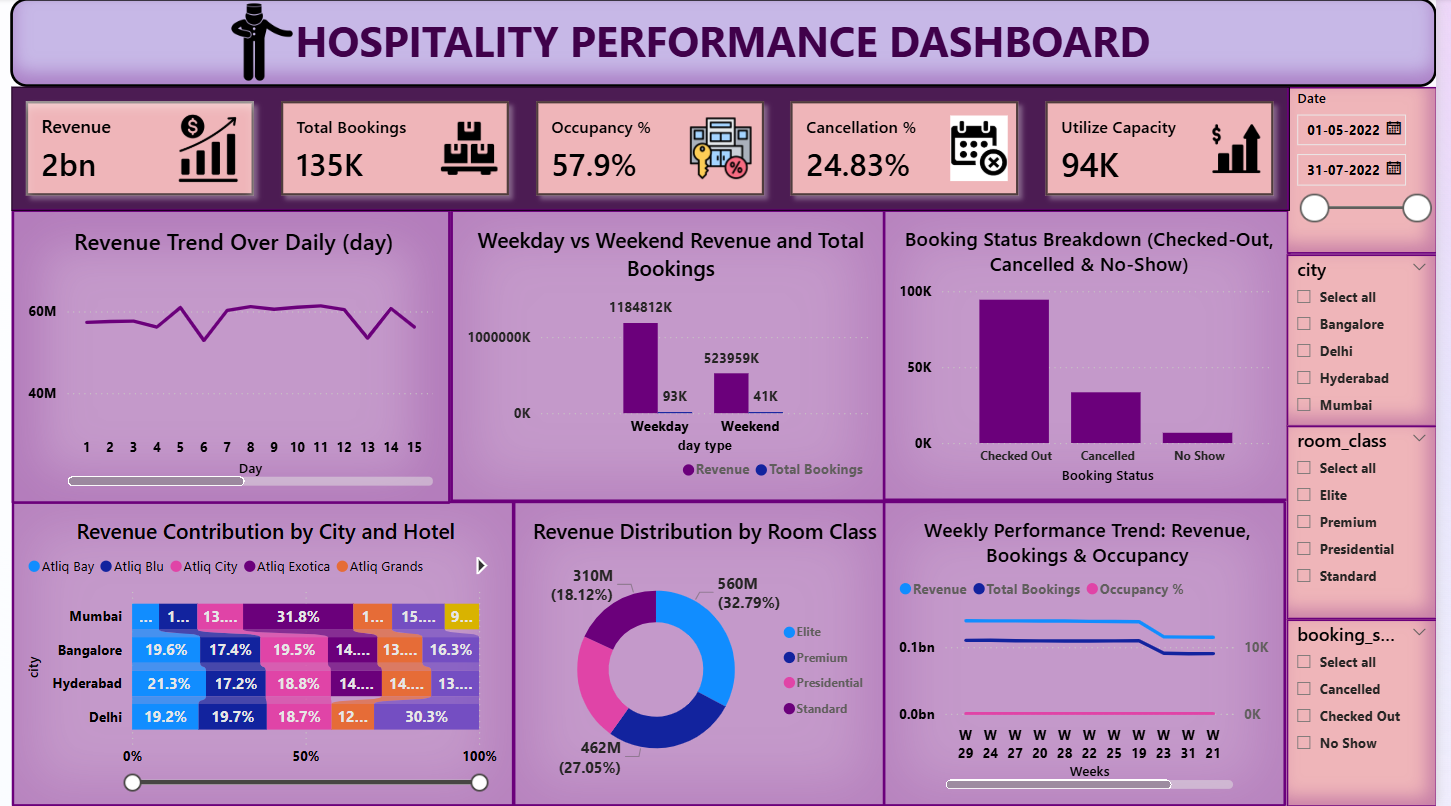

The page's visual inventory and layout, read from the dashboard file:
{"tool":"powerbi","page":{"name":"Page 8","canvas":[1280,720],"ordinal":7},"visuals":[{"type":"textbox","box":[10.1,0,1270.3,78.9],"z":0},{"type":"clusteredColumnChart","title":"Weekday vs Weekend Revenue and Total Bookings","fields":{"Category":["dim_date.day type"],"Y":["fact_bookings.Revenue","fact_bookings.Total Bookings"]},"box":[401.9,188.1,388,261],"z":6000},{"type":"hundredPercentStackedBarChart","title":"Revenue Contribution by City and Hotel","fields":{"Y":["fact_bookings.Revenue"],"Category":["dim_hotels.city"],"Series":["dim_hotels.property_name"]},"box":[11.1,447.5,448,272.7],"z":7000},{"type":"donutChart","title":"Revenue Distribution by Room Class","fields":{"Category":["dim_rooms.room_class"],"Y":["fact_bookings.Revenue"]},"box":[457.5,447.5,337.3,272.7],"z":8000},{"type":"lineChart","title":"Revenue Trend Over Daily (day)","fields":{"Category":["dim_date.date.Variation.Date Hierarchy.Day"],"Y":["fact_bookings.Revenue"]},"box":[11.3,188.2,391.1,262],"z":9000},{"type":"clusteredColumnChart","title":"Booking Status Breakdown (Checked-Out, Cancelled & No-Show)","fields":{"Category":["fact_bookings.booking_status"],"Y":["fact_bookings.Total Bookings"]},"box":[787,188.1,363,260],"z":10000},{"type":"lineChart","title":"Weekly Performance Trend: Revenue, Bookings & Occupancy","fields":{"Category":["dim_date.week no"],"Y":["fact_bookings.Revenue"],"Y2":["fact_bookings.Total Bookings","fact_aggregated_bookings.Occupancy %"]},"box":[787,447.5,359.6,272.7],"z":11000},{"type":"slicer","fields":{"Values":["dim_date.date"]},"box":[1146.3,78.9,134.1,148.8],"z":12000},{"type":"slicer","fields":{"Values":["dim_hotels.city"]},"box":[1146.3,227.7,134.1,153.3],"z":13000},{"type":"slicer","fields":{"Values":["dim_rooms.room_class"]},"box":[1146.3,381,134.1,172.4],"z":14000},{"type":"slicer","fields":{"Values":["fact_bookings.booking_status"]},"box":[1146.3,553.4,134.1,166.8],"z":15000},{"type":"image","box":[175.8,0,116.1,78.9],"z":16000},{"type":"cardVisual","fields":{"Data":["fact_bookings.Revenue","fact_bookings.Total Bookings","fact_aggregated_bookings.Occupancy %","fact_bookings.Cancellation %","fact_bookings.Utilize Capacity"]},"box":[11.3,78.9,1138.4,110.5],"z":17000}]}

Visuals, with their boxes in screenshot pixels (x1, y1, x2, y2), scaled from the page's 1280x720 canvas onto the 1451x806 screenshot:
textbox: x1=11 y1=0 x2=1450 y2=88
"Weekday vs Weekend Revenue and Total Bookings" clusteredColumnChart: x1=456 y1=211 x2=895 y2=503
"Revenue Contribution by City and Hotel" hundredPercentStackedBarChart: x1=13 y1=501 x2=520 y2=805
"Revenue Distribution by Room Class" donutChart: x1=519 y1=501 x2=901 y2=805
"Revenue Trend Over Daily (day)" lineChart: x1=13 y1=211 x2=456 y2=504
"Booking Status Breakdown (Checked-Out, Cancelled & No-Show)" clusteredColumnChart: x1=892 y1=211 x2=1304 y2=502
"Weekly Performance Trend: Revenue, Bookings & Occupancy" lineChart: x1=892 y1=501 x2=1300 y2=805
slicer - dim_date.date: x1=1299 y1=88 x2=1450 y2=255
slicer - dim_hotels.city: x1=1299 y1=255 x2=1450 y2=427
slicer - dim_rooms.room_class: x1=1299 y1=427 x2=1450 y2=620
slicer - fact_bookings.booking_status: x1=1299 y1=620 x2=1450 y2=805
image: x1=199 y1=0 x2=331 y2=88
cardVisual - fact_bookings.Revenue x fact_bookings.Total Bookings: x1=13 y1=88 x2=1303 y2=212
